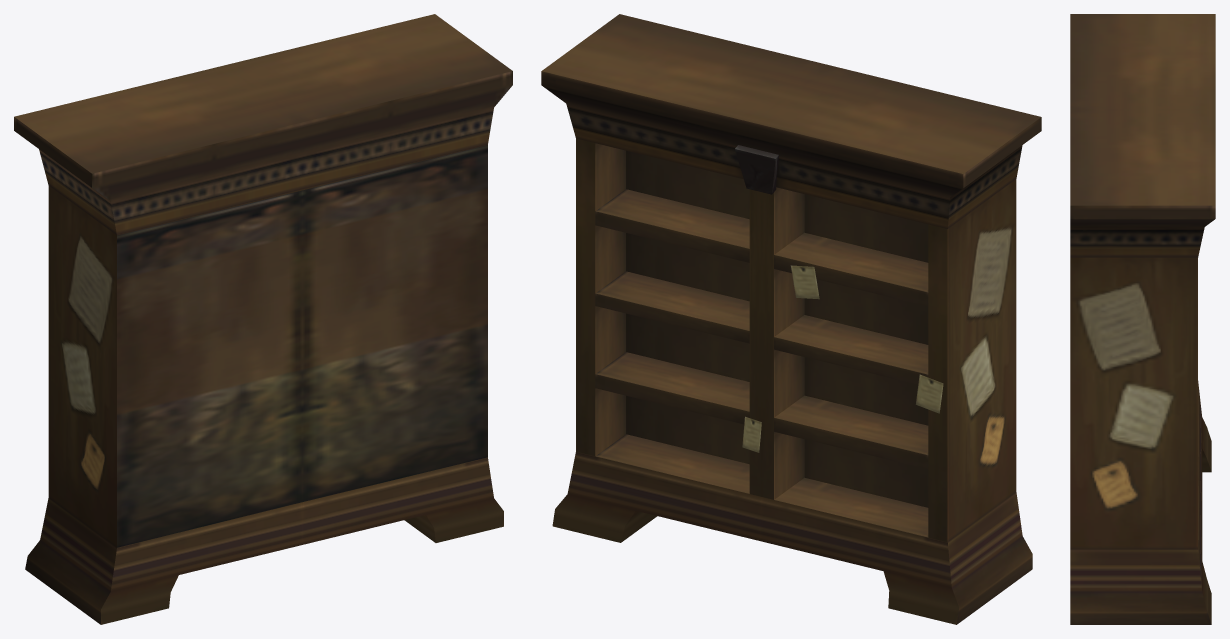
The model's file is DN_1_4_shujia02.FBX.
3 views of the same model, side by side, from view 1: azimuth 30°, elevation 25°; view 2: azimuth 150°, elevation 25°; view 3: azimuth 270°, elevation 25° (orthographic). The views are drawn at different scales.
Visible parts, largest first — view 1: DN_1_4_shujia02; view 2: DN_1_4_shujia02; view 3: DN_1_4_shujia02.
Part boxes in pixels (box(x1,y1,x2,y2)): DN_1_4_shujia02: box(14, 14, 512, 624); DN_1_4_shujia02: box(541, 14, 1041, 624); DN_1_4_shujia02: box(1070, 14, 1215, 624).
Bounding box in the file's own units: 115 × 118 × 36.89.
